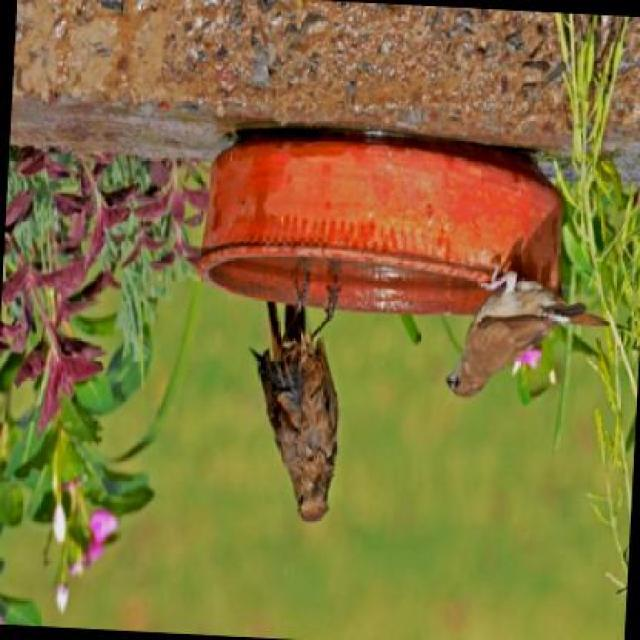Bird: (249, 299, 343, 527), (443, 276, 609, 401)
